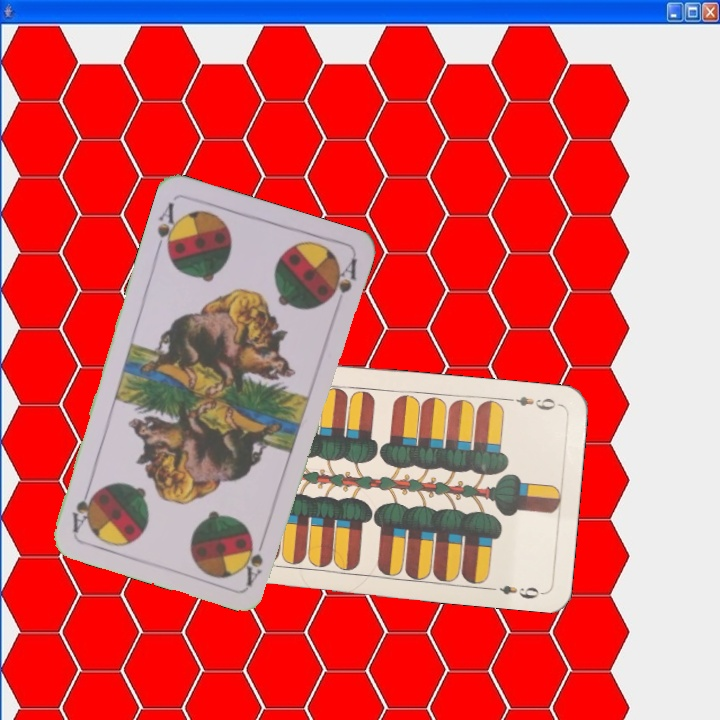E9: (503, 392, 562, 413)
SA: (151, 198, 184, 258), (241, 530, 269, 588)
